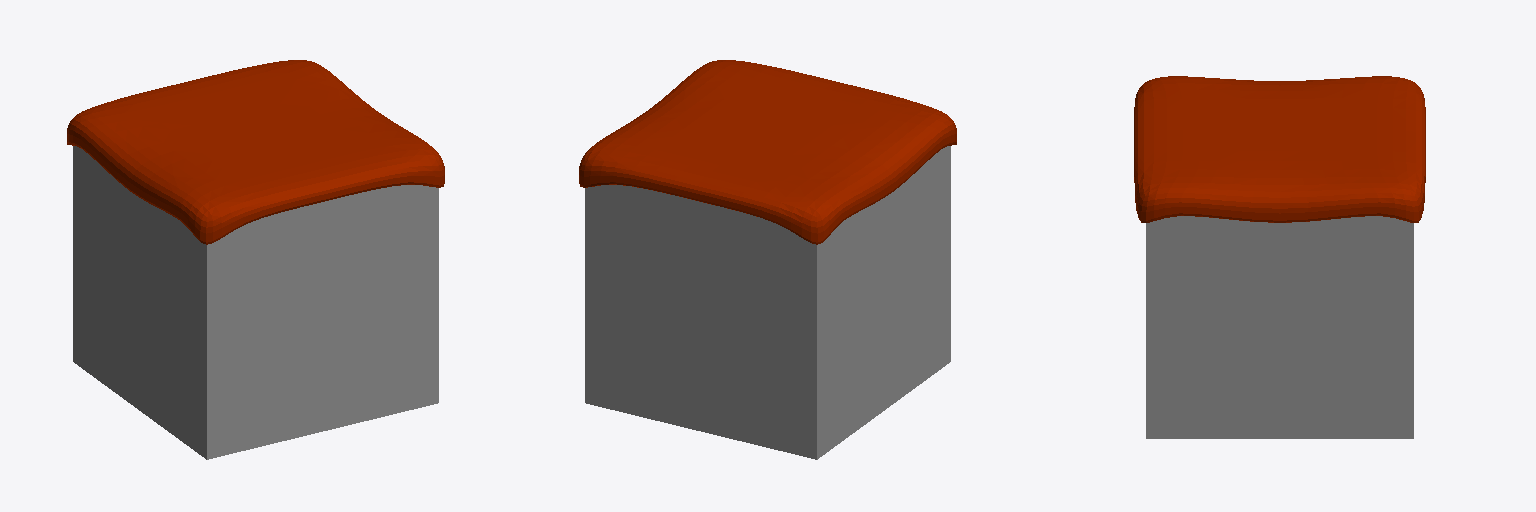
File: cube_with_glue.obj
The picture shows the model from 3 angles: view 1: azimuth 30°, elevation 25°; view 2: azimuth 150°, elevation 25°; view 3: azimuth 270°, elevation 25°; orthographic projection.
Parts seen in each view (by area): view 1: Cube.001; view 2: Cube.001; view 3: Cube.001.
Part boxes in pixels (x1,y1,x2,y2): Cube.001: (67, 60, 444, 459); Cube.001: (579, 60, 956, 459); Cube.001: (1134, 76, 1425, 438).
Size of the model in its own units: 0.9709 by 0.9364 by 0.9783.